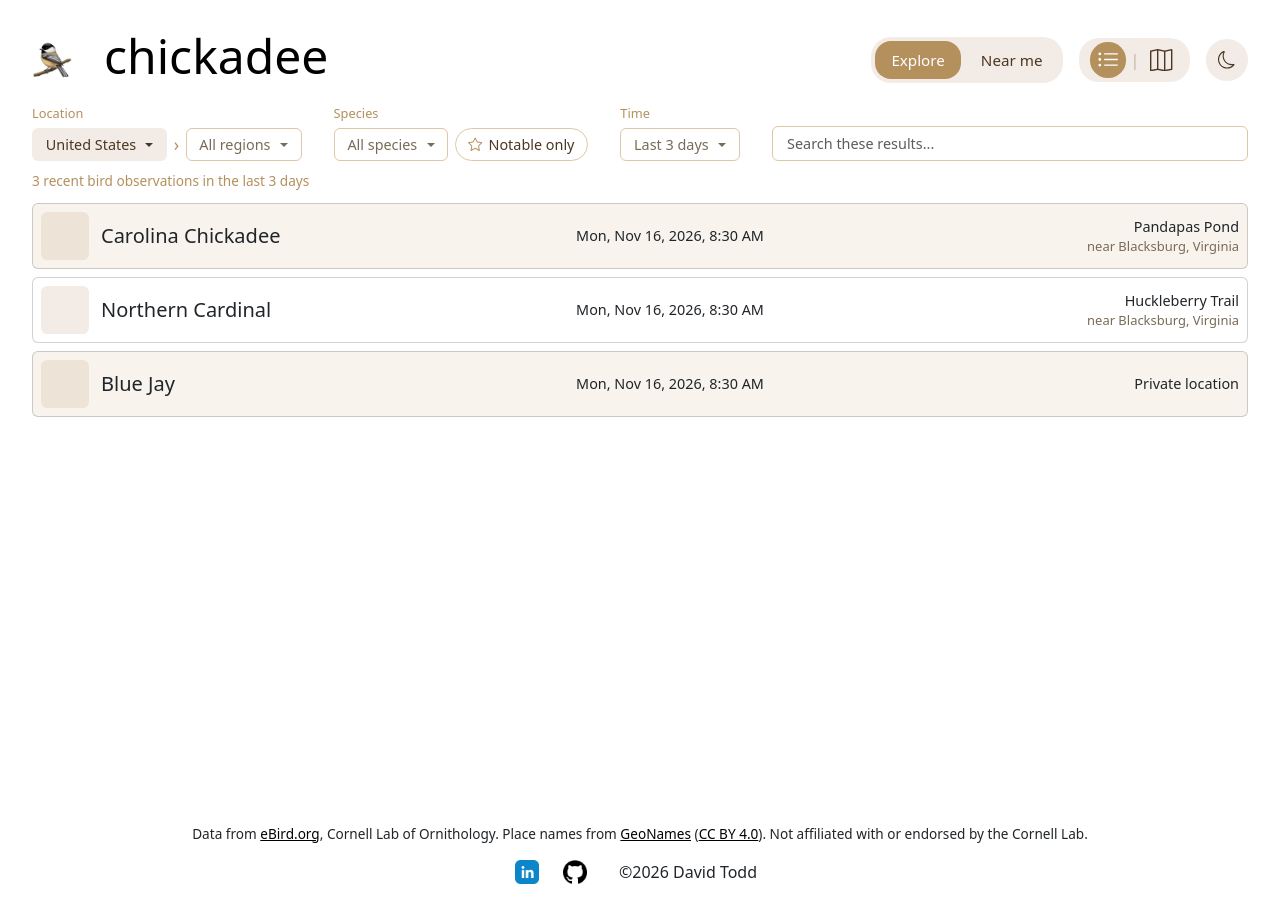
Test case: Explore page › searches the loaded results by bird name and keeps the search in the URL
Expected: the text "Blue Jay" is shown, [101,370,175,397]
In the search field named "Search these results by bird name": (1010, 144) [772,126,1248,161], type "jay"
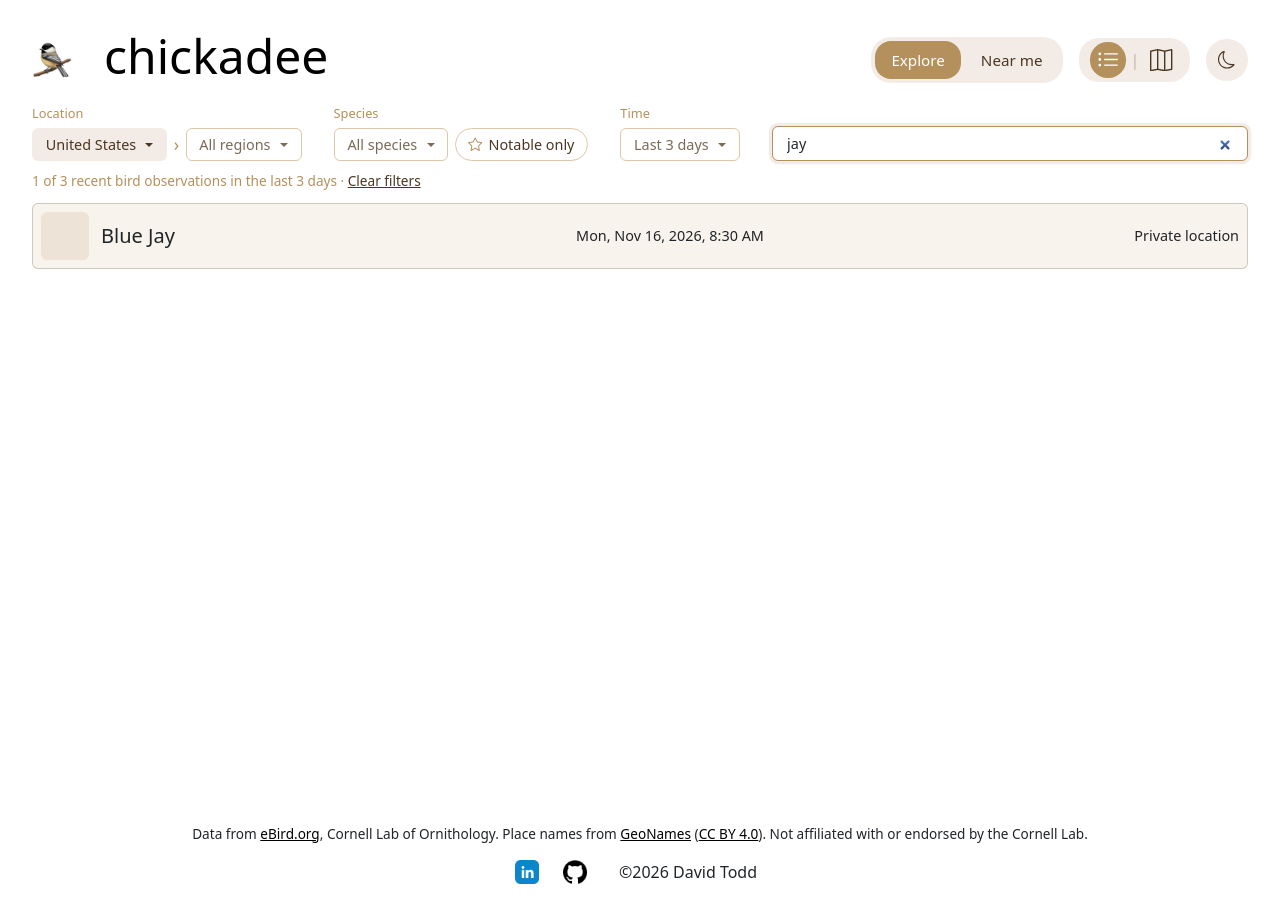
Expected: the element with class "observation-count" shows "1 of 3 recent bird observations", [32,171,421,191]
Expected: the text "Carolina Chickadee" is gone
